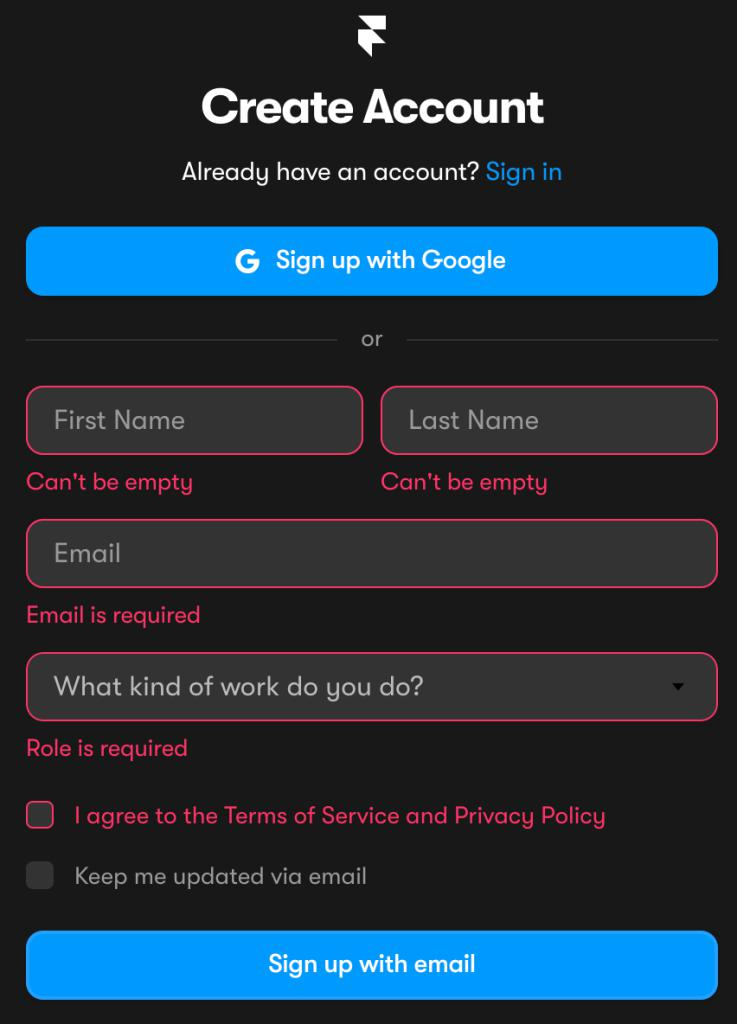error_field: (22, 651, 719, 723), (25, 518, 719, 590), (22, 385, 363, 457), (379, 385, 716, 455), (23, 799, 55, 831)
error_message: (73, 805, 606, 833), (21, 467, 195, 497), (378, 468, 549, 497), (25, 603, 209, 627), (23, 737, 193, 761)
